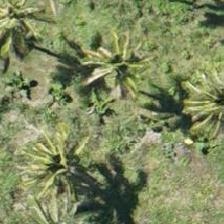coconut_tree: (75, 14, 165, 104), (12, 117, 102, 207), (0, 0, 55, 52)
